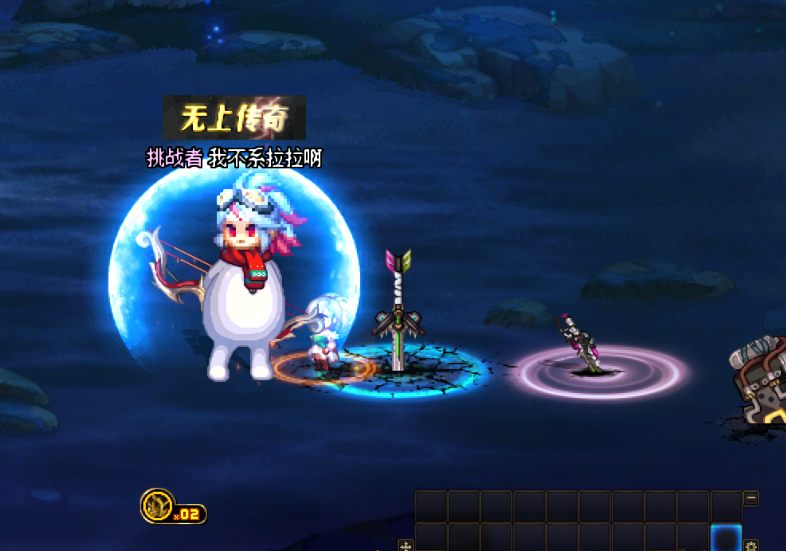role: (162, 94, 306, 141)
